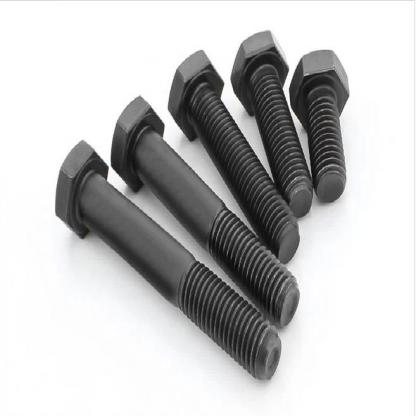FOD: (53, 140, 283, 382), (108, 92, 300, 329), (164, 47, 300, 267), (226, 25, 315, 216), (289, 47, 351, 204)
